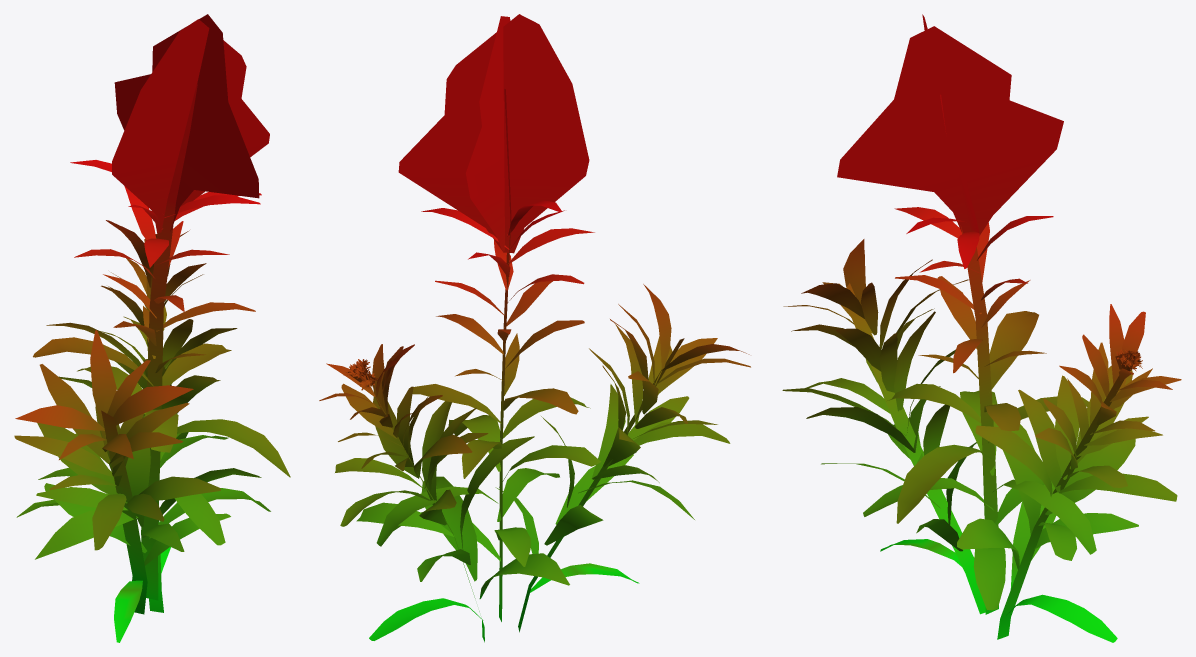
The model's file is Goldenrods_LOD4_Var4.fbx.
The picture shows the model from 3 angles, left to right: view 1: azimuth 30°, elevation 25°; view 2: azimuth 150°, elevation 25°; view 3: azimuth 270°, elevation 25°; orthographic projection. The views are drawn at different scales.
Parts seen in each view (by area): view 1: _txtd_Var4_LOD4; view 2: _txtd_Var4_LOD4; view 3: _txtd_Var4_LOD4.
Boxes of the visible parts, x1,y1,x2,y2 form: _txtd_Var4_LOD4: (14, 14, 290, 642); _txtd_Var4_LOD4: (319, 14, 750, 642); _txtd_Var4_LOD4: (782, 14, 1181, 642).
Size of the model in its own units: 50.56 by 94.35 by 54.9.
